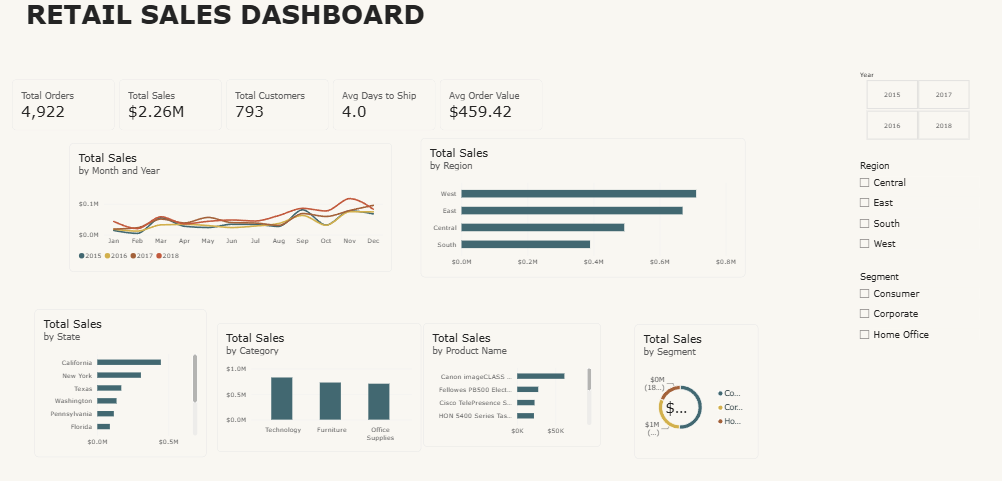

The page's visual inventory and layout, read from the dashboard file:
{"tool":"powerbi","page":{"name":"Page 1","canvas":[1920,1080],"ordinal":0},"visuals":[{"type":"cardVisual","fields":{"Data":["Orders.Total Orders","Orders.Total Sales","Orders.Total Customers","Orders.Avg Days to Ship","Orders.Avg Order Value"]},"box":[28.8,152.3,990,95],"z":0},{"type":"lineChart","fields":{"Category":["Orders.Month"],"Series":["Orders.Year"],"Y":["Orders.Total Sales"]},"box":[134.7,269.4,600,240],"z":1000},{"type":"barChart","fields":{"Category":["Orders.State"],"Y":["Orders.Total Sales"]},"box":[69.4,579.6,320,275],"z":2000},{"type":"clusteredBarChart","fields":{"Category":["Orders.Product Name"],"Y":["Orders.Total Sales"]},"box":[793.9,604.1,330,230],"z":3000},{"type":"clusteredColumnChart","fields":{"Category":["Orders.Category"],"Y":["Orders.Total Sales"]},"box":[408.2,604.1,380,240],"z":4000},{"type":"clusteredBarChart","fields":{"Category":["Orders.Region"],"Y":["Orders.Total Sales"]},"box":[787.8,261.2,603.7,259.3],"z":5000},{"type":"donutChart","fields":{"Category":["Orders.Segment"],"Y":["Orders.Total Sales"]},"box":[1185.7,606.1,230,250],"z":6000},{"type":"slicer","fields":{"Values":["Orders.Year"]},"box":[1598,134.7,230,130],"z":7000},{"type":"slicer","fields":{"Values":["Orders.Region"]},"box":[1598,302,230.6,173.5],"z":8000},{"type":"slicer","fields":{"Values":["Orders.Segment"]},"box":[1598,510.2,230.6,142.9],"z":9000},{"type":"textbox","box":[52.5,0,657.5,95],"z":14000}]}

Visuals, with their boxes on the page's 1920x1080 design canvas (x1, y1, x2, y2). These are canvas units, not pixel positions in the 1002x481 screenshot, which may show the page scaled, cropped or inside an application window:
cardVisual - Orders.Total Orders x Orders.Total Sales: (left=29, top=152, right=1019, bottom=247)
lineChart - Orders.Month x Orders.Year: (left=135, top=269, right=735, bottom=509)
barChart - Orders.State x Orders.Total Sales: (left=69, top=580, right=389, bottom=855)
clusteredBarChart - Orders.Product Name x Orders.Total Sales: (left=794, top=604, right=1124, bottom=834)
clusteredColumnChart - Orders.Category x Orders.Total Sales: (left=408, top=604, right=788, bottom=844)
clusteredBarChart - Orders.Region x Orders.Total Sales: (left=788, top=261, right=1392, bottom=520)
donutChart - Orders.Segment x Orders.Total Sales: (left=1186, top=606, right=1416, bottom=856)
slicer - Orders.Year: (left=1598, top=135, right=1828, bottom=265)
slicer - Orders.Region: (left=1598, top=302, right=1829, bottom=476)
slicer - Orders.Segment: (left=1598, top=510, right=1829, bottom=653)
textbox: (left=52, top=0, right=710, bottom=95)
